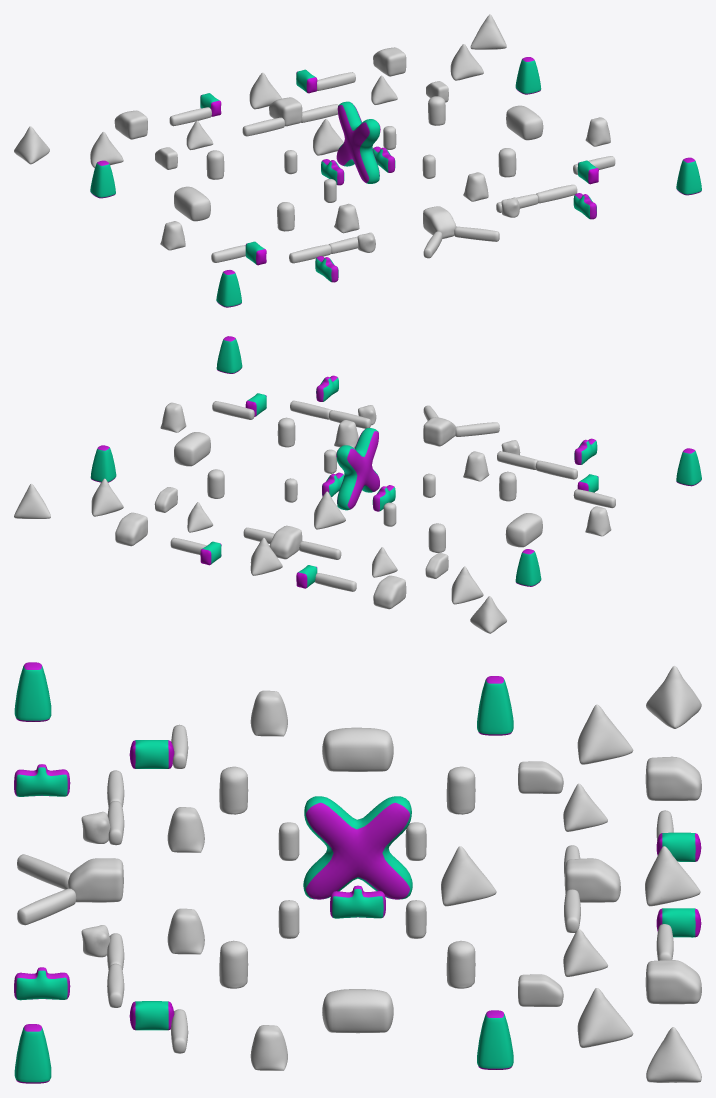
File: 25.04.03_Playoffs.fbx
3 views of the same model, one above another, from view 1: azimuth 30°, elevation 25°; view 2: azimuth 150°, elevation 25°; view 3: azimuth 270°, elevation 25° (orthographic). The views are drawn at different scales.
Parts seen in each view (by area): view 1: X_L.001; view 2: X_L.001; view 3: X_L.001.
Part boxes in pixels (left/top/right/bottom): X_L.001: left=14, top=14, right=701, bottom=307; X_L.001: left=14, top=336, right=701, bottom=633; X_L.001: left=14, top=662, right=701, bottom=1083.
Bounding box in the file's own units: 3963 × 489 × 3053.
